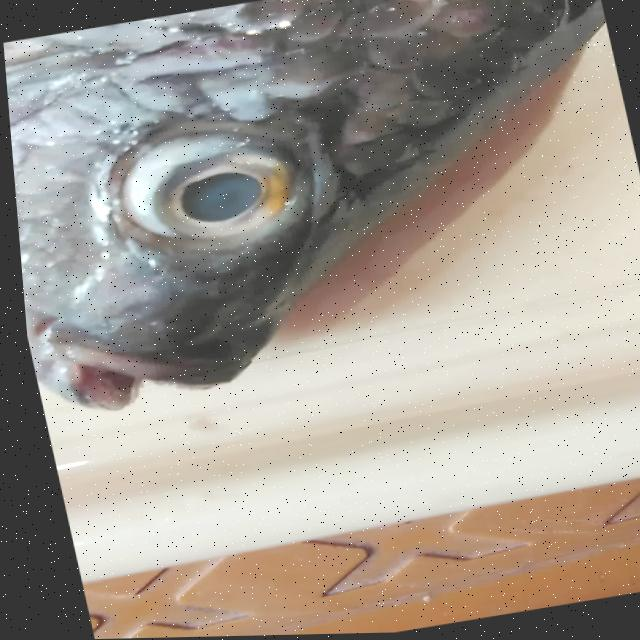Fresh: (44, 90, 356, 280)
